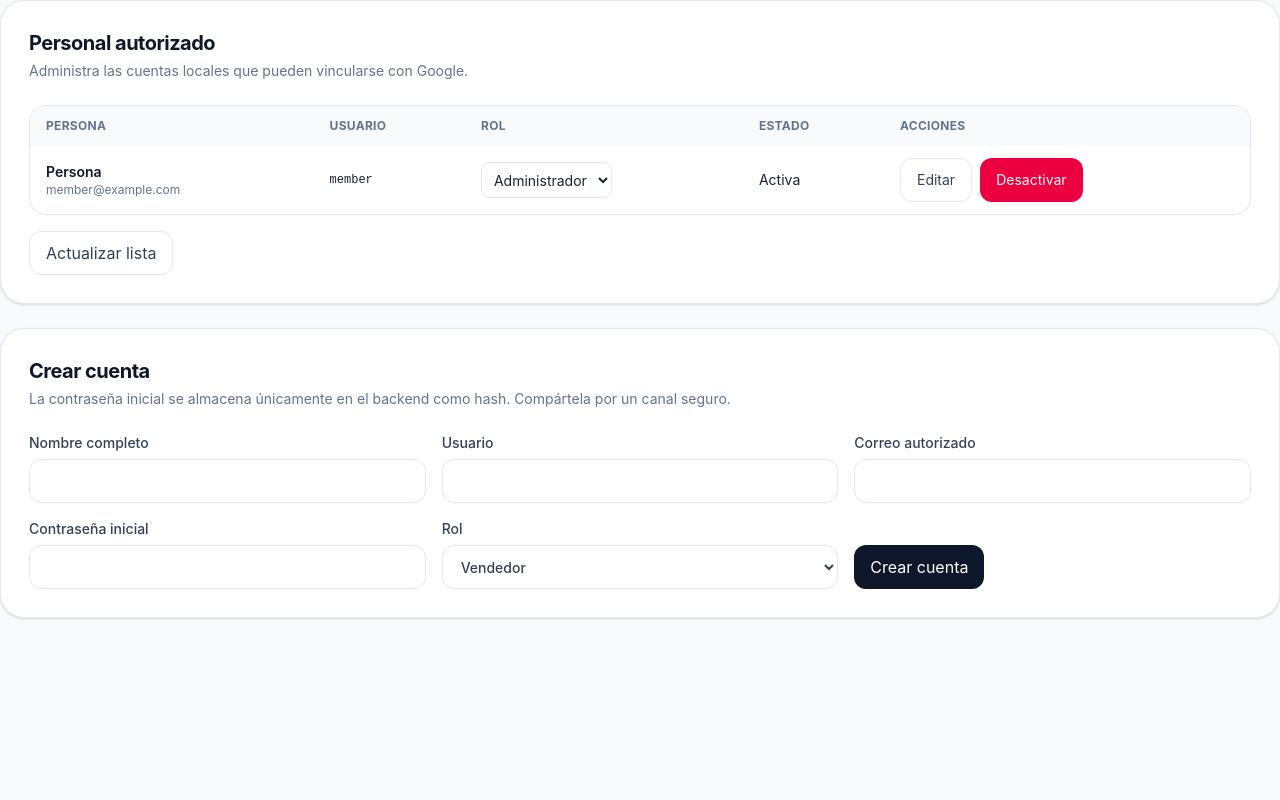
Test case: edits credentials and signs out only when editing self (false)
The width and height of the screenshot is (1280, 800).
Click the button "Editar": (936, 180) [900, 158, 972, 202]
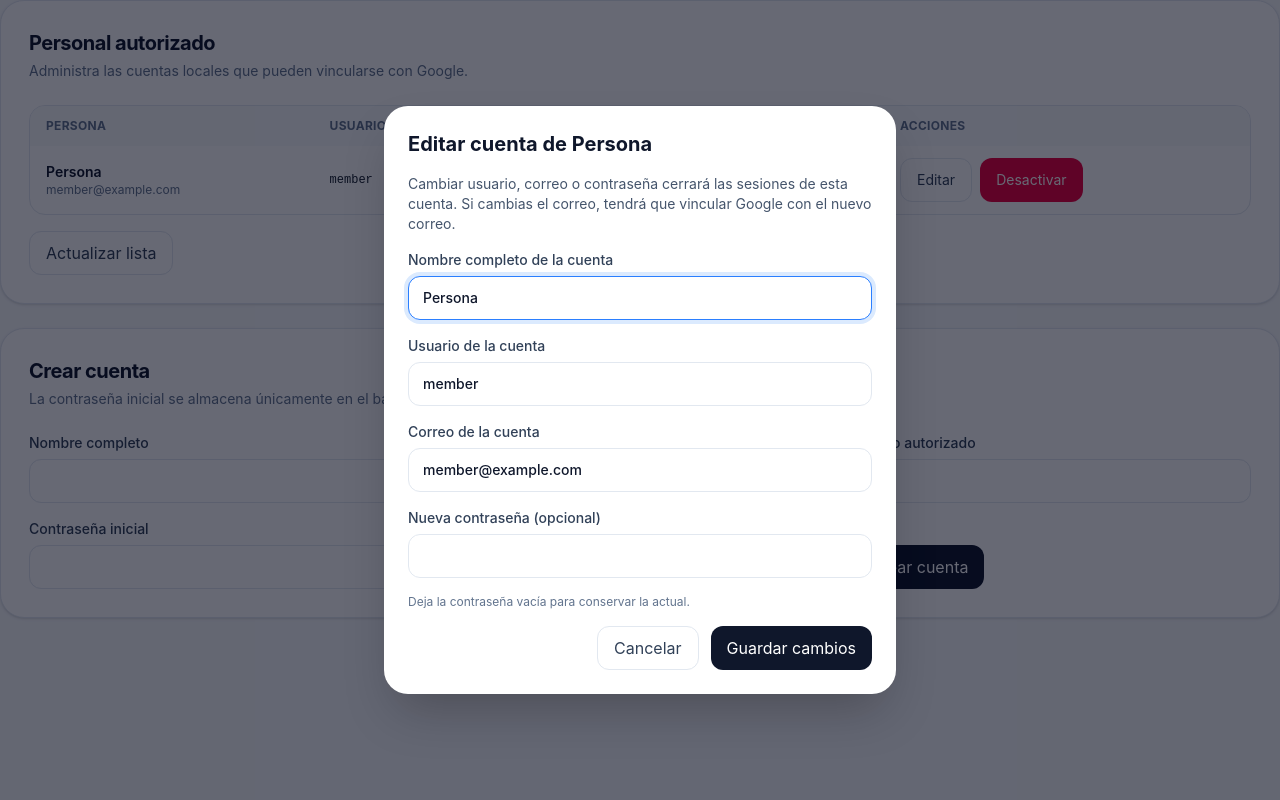
Replace the text in the field labelled "Correo de la cuenta" with "nuevo@example.com": (640, 470) [408, 448, 872, 492]
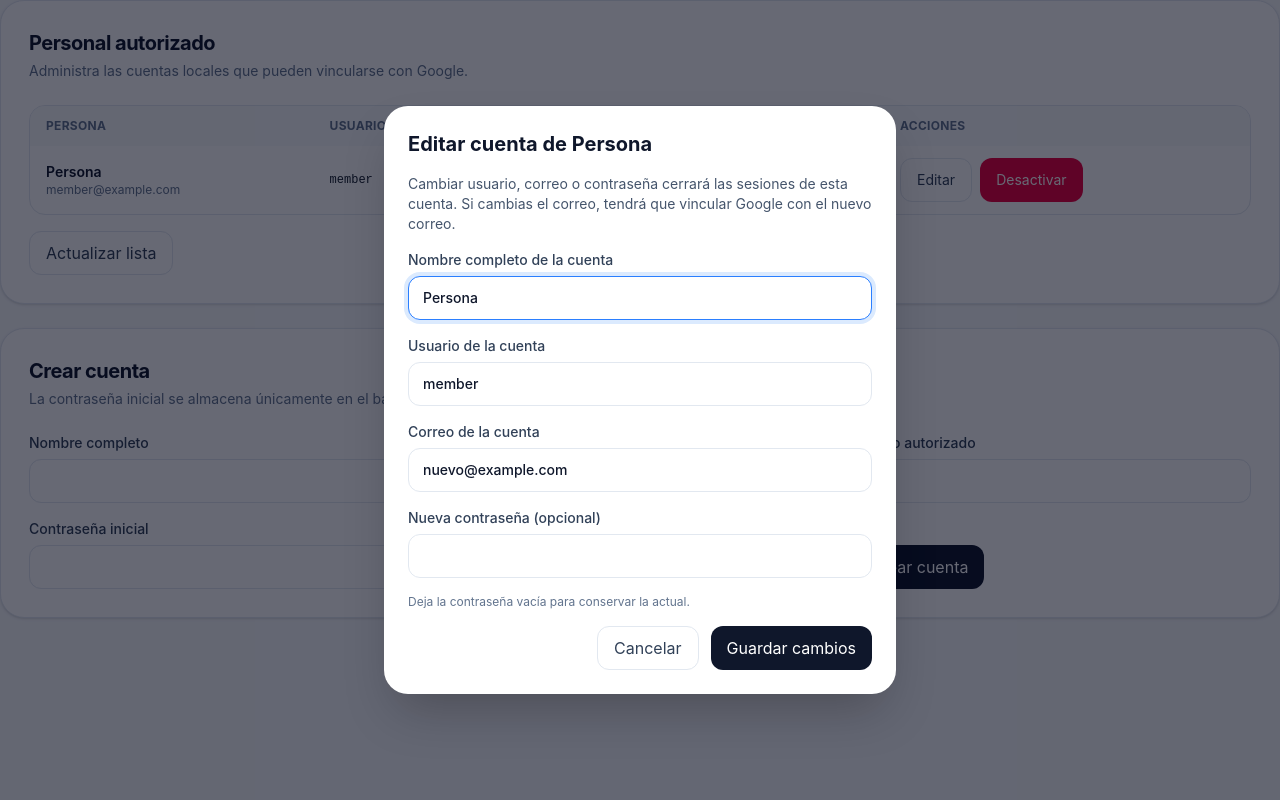
In the password field labelled "Nueva contraseña (opcional)": (640, 556) [408, 534, 872, 578], type "new-password"
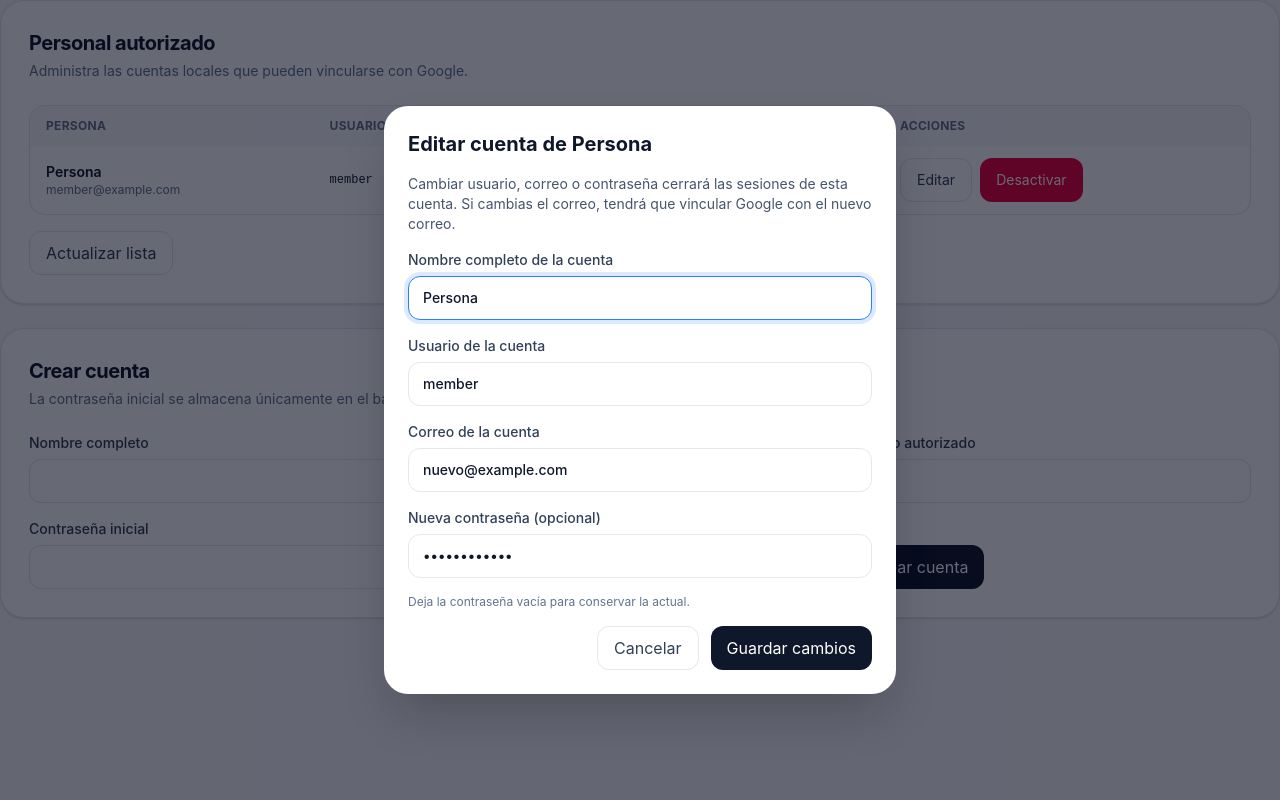
Click the button "Guardar cambios": (791, 648) [710, 626, 872, 670]
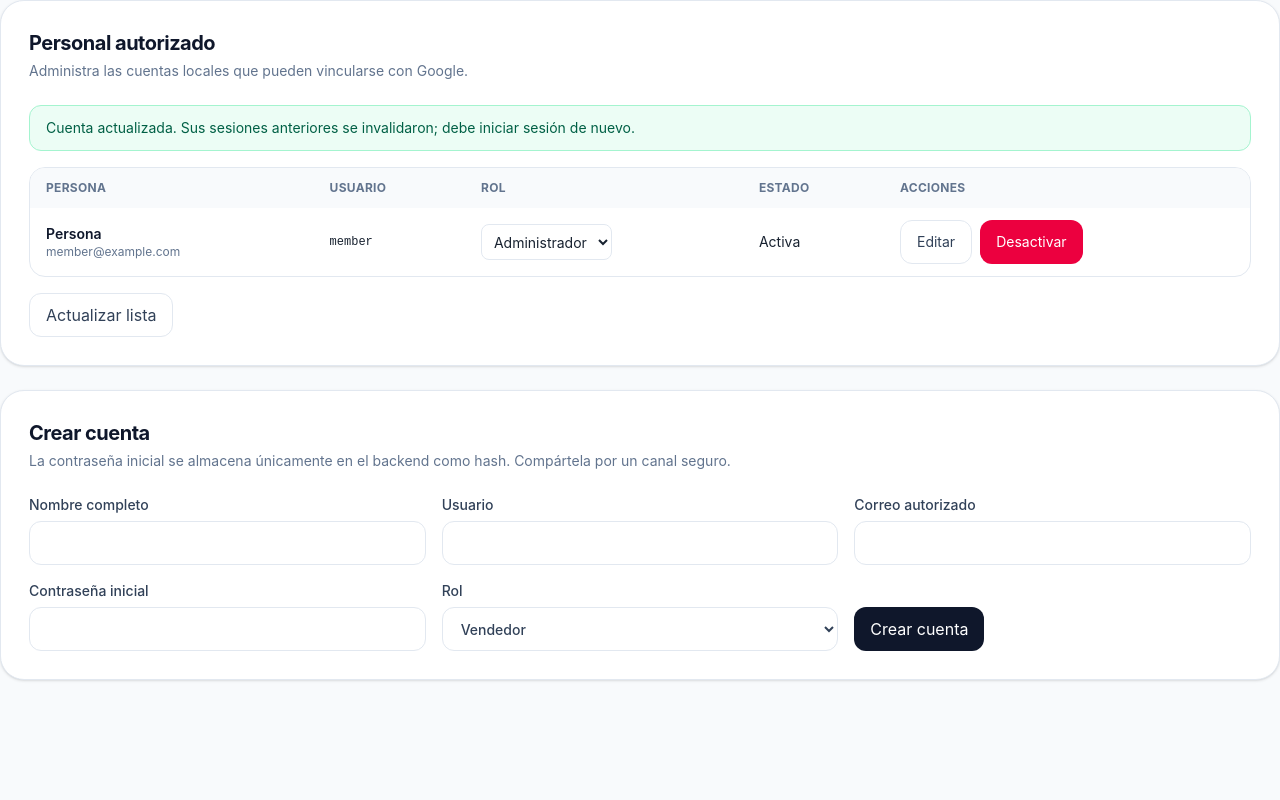
Result: the dialog is gone
